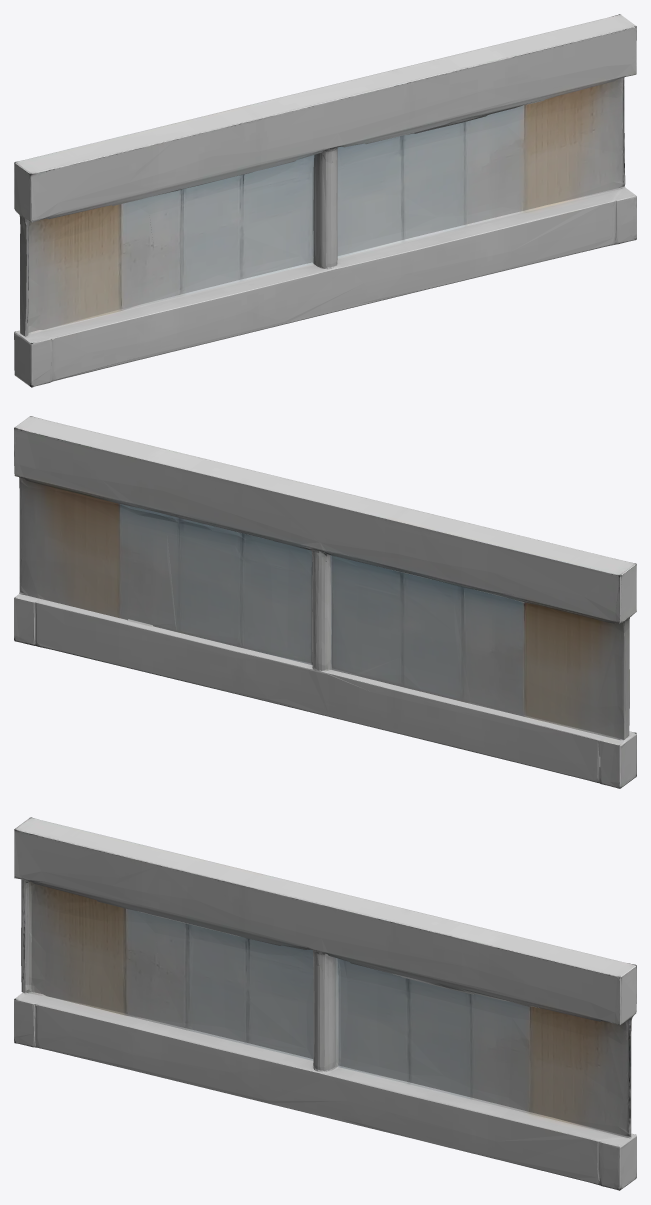
3 views of the same model, one above another, from view 1: azimuth 30°, elevation 25°; view 2: azimuth 150°, elevation 25°; view 3: azimuth 330°, elevation 25° (orthographic).
Parts seen in each view (by area): view 1: geometry_0; view 2: geometry_0; view 3: geometry_0.
Part boxes in pixels (bbox=[...]): geometry_0: bbox=[14, 14, 636, 387]; geometry_0: bbox=[14, 416, 636, 788]; geometry_0: bbox=[14, 817, 636, 1190].
Bounding box in the file's own units: 1 × 0.3367 × 0.0495.
Materials: 1 (1 with a texture image).
